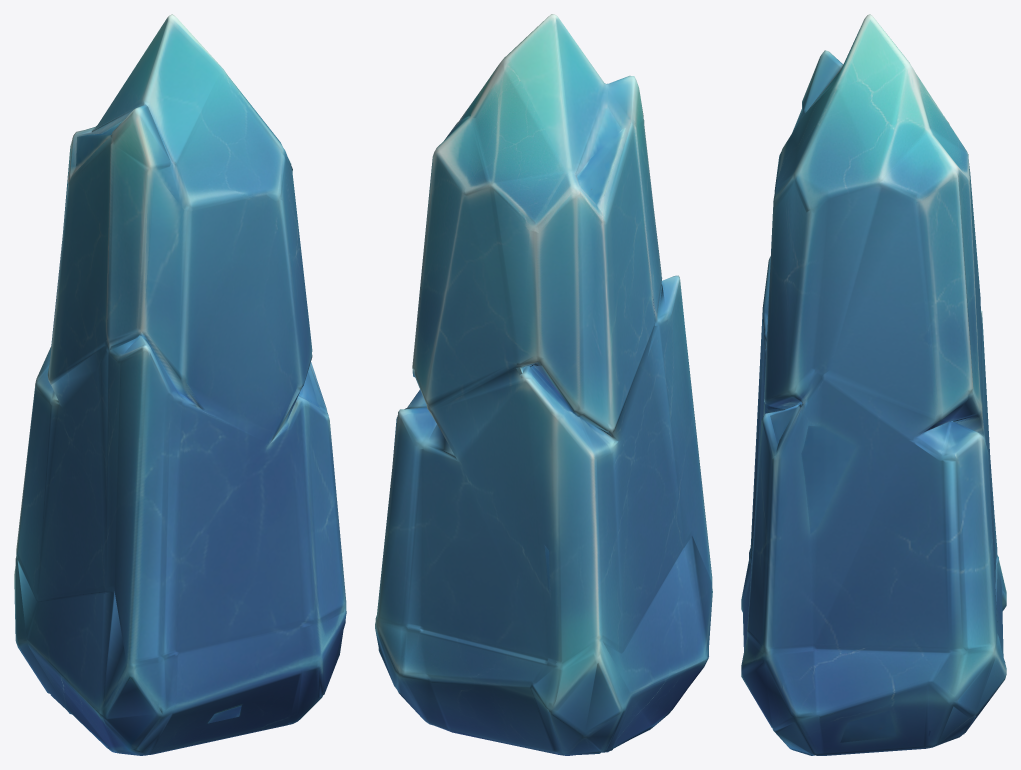
File: Pilar1.glb
3 views of the same model, side by side, from view 1: azimuth 30°, elevation 25°; view 2: azimuth 150°, elevation 25°; view 3: azimuth 270°, elevation 25° (orthographic).
Visible parts, largest first — view 1: tripo_node_7c7ac9c7-b320-46b6-906d-4b96adccd937; view 2: tripo_node_7c7ac9c7-b320-46b6-906d-4b96adccd937; view 3: tripo_node_7c7ac9c7-b320-46b6-906d-4b96adccd937.
Part boxes in pixels (bbox=[...]): tripo_node_7c7ac9c7-b320-46b6-906d-4b96adccd937: bbox=[14, 14, 346, 755]; tripo_node_7c7ac9c7-b320-46b6-906d-4b96adccd937: bbox=[375, 14, 712, 755]; tripo_node_7c7ac9c7-b320-46b6-906d-4b96adccd937: bbox=[741, 14, 1006, 755].
Bounding box in the file's own units: 0.3574 × 0.998 × 0.3418.
Materials: 1 (1 with a texture image).
